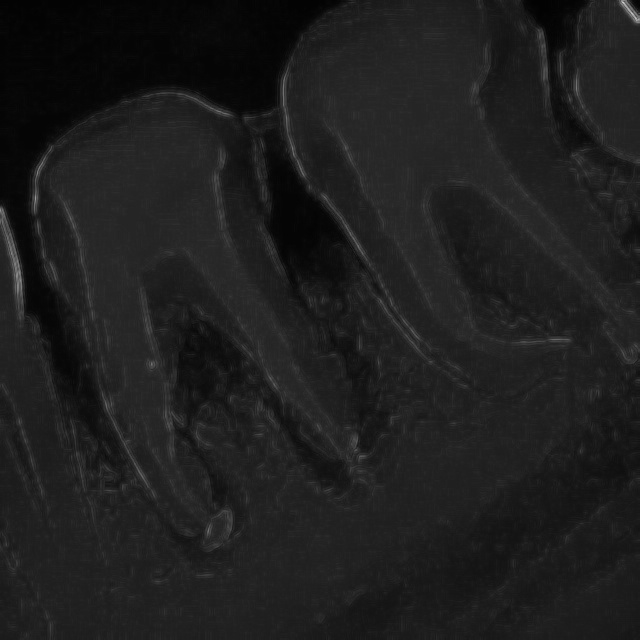Class 0- No endodontic treatment: (264, 23, 640, 424)
Class 1- complete endodontic treatment: (12, 101, 379, 546)
